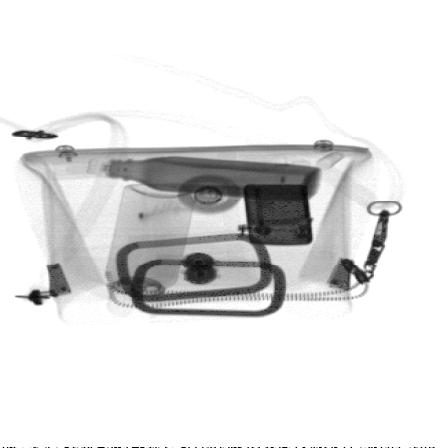Lighter: (243, 184, 313, 244)
Sprayer: (105, 183, 198, 319)
